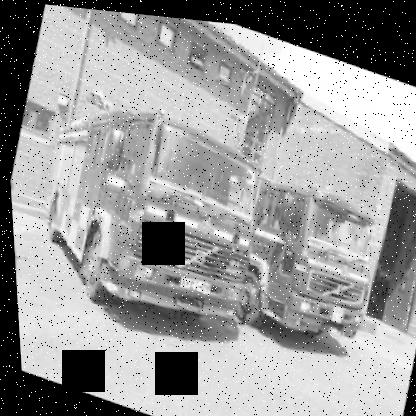emergency: (11, 65, 287, 355), (225, 155, 391, 364)
